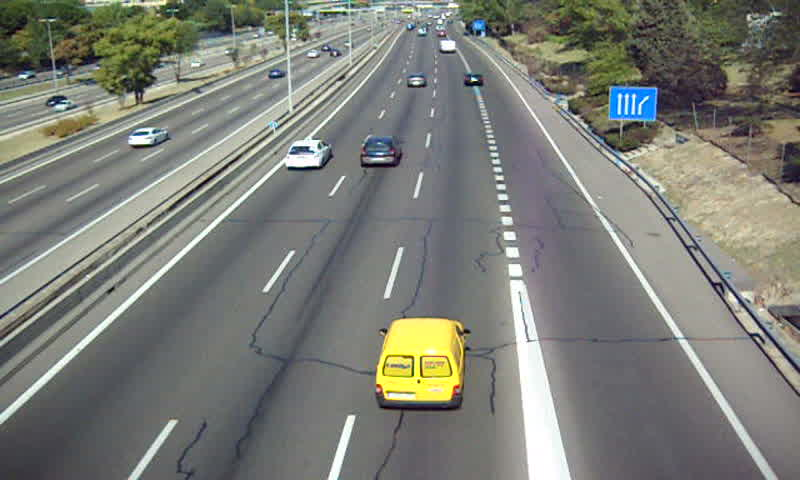car: (285, 140, 332, 168), (359, 136, 401, 165), (406, 73, 427, 88), (463, 73, 485, 87)
van: (375, 318, 463, 409)
